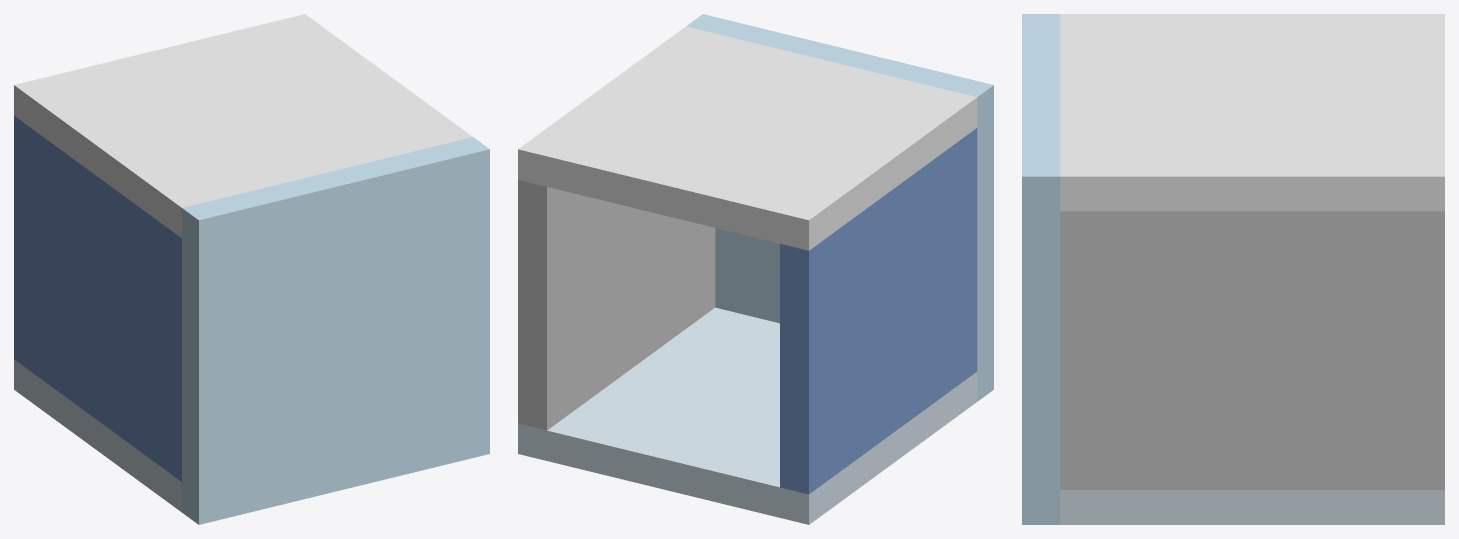
Rendered from PMR_box.gltf.
3 views of the same model, side by side, from view 1: azimuth 30°, elevation 25°; view 2: azimuth 150°, elevation 25°; view 3: azimuth 270°, elevation 25° (orthographic). The views are drawn at different scales.
Parts seen in each view (by area): view 1: fond, bas, gauche, haut; view 2: bas, gauche, haut, droite, fond; view 3: droite, bas, fond, haut.
Part boxes in pixels (x1=…): fond: x1=182, y1=137, x2=489, y2=524; bas: x1=14, y1=14, x2=472, y2=237; gauche: x1=14, y1=116, x2=181, y2=481; haut: x1=14, y1=359, x2=181, y2=512; bas: x1=518, y1=26, x2=977, y2=250; gauche: x1=780, y1=128, x2=977, y2=494; haut: x1=518, y1=307, x2=977, y2=524; droite: x1=518, y1=180, x2=715, y2=430; fond: x1=686, y1=14, x2=993, y2=401; droite: x1=1060, y1=211, x2=1444, y2=489; bas: x1=1060, y1=14, x2=1444, y2=211; fond: x1=1022, y1=14, x2=1060, y2=524; haut: x1=1060, y1=490, x2=1444, y2=524.
Bounding box in the file's own units: 0.4 × 0.4 × 0.44.
